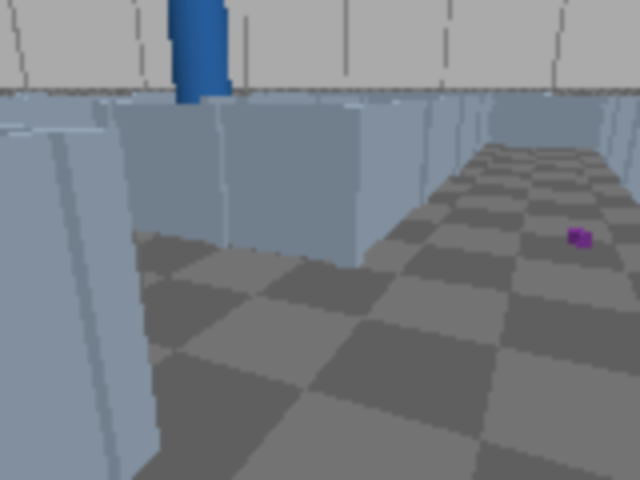puck: (567, 229, 594, 247)
